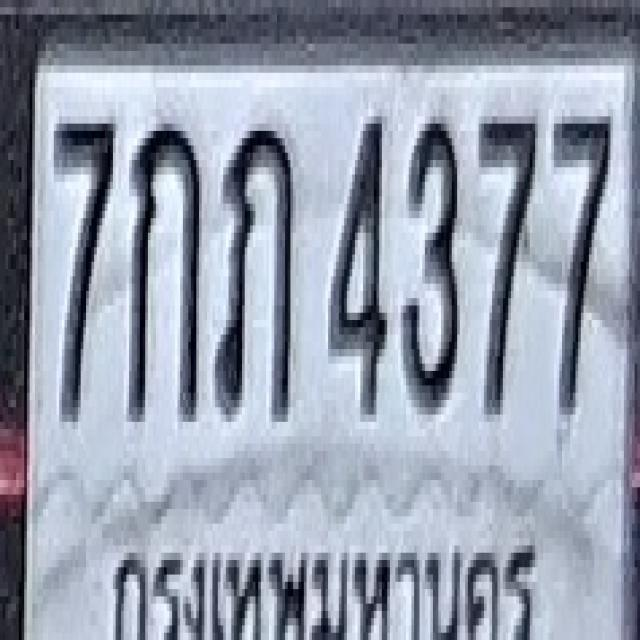3: (402, 109, 459, 407)
4: (328, 105, 387, 411)
7: (55, 113, 114, 418), (480, 105, 536, 411), (554, 105, 610, 411)
A01: (128, 113, 200, 418)
A32: (215, 120, 296, 418)
BKK: (105, 518, 544, 640)
